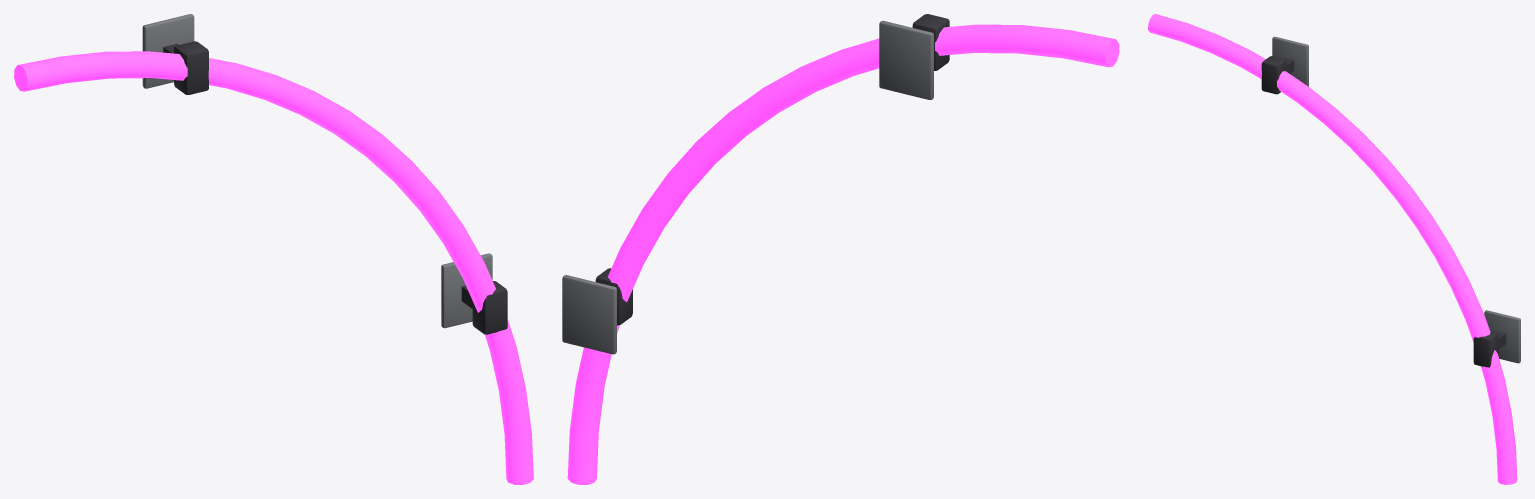
The model's file is KIT_Neon_Curva_Rosa.glb.
The picture shows the model from 3 angles, left to right: view 1: azimuth 30°, elevation 25°; view 2: azimuth 150°, elevation 25°; view 3: azimuth 330°, elevation 25°; orthographic projection. The views are drawn at different scales.
Parts seen in each view (by area): view 1: KIT_Neon_Curva_Rosa; view 2: KIT_Neon_Curva_Rosa; view 3: KIT_Neon_Curva_Rosa.
Part boxes in pixels (box(x1,y1,x2,y2)): KIT_Neon_Curva_Rosa: box(14, 14, 533, 484); KIT_Neon_Curva_Rosa: box(562, 14, 1119, 484); KIT_Neon_Curva_Rosa: box(1148, 14, 1520, 484).
Size of the model in its own units: 0.5125 by 0.5125 by 0.055.
